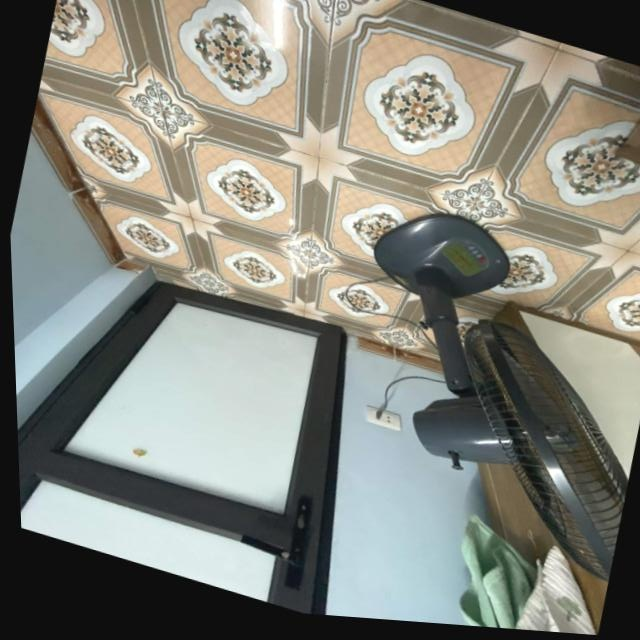outlet: (363, 403, 406, 431)
